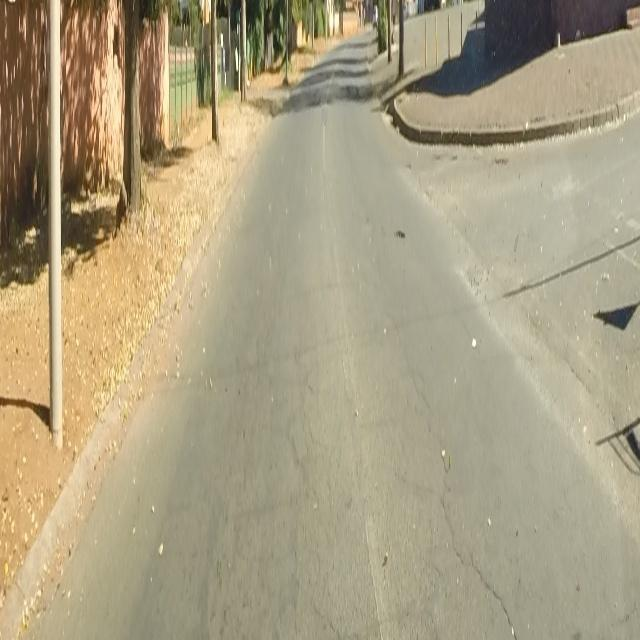pothole: (394, 226, 406, 243)
